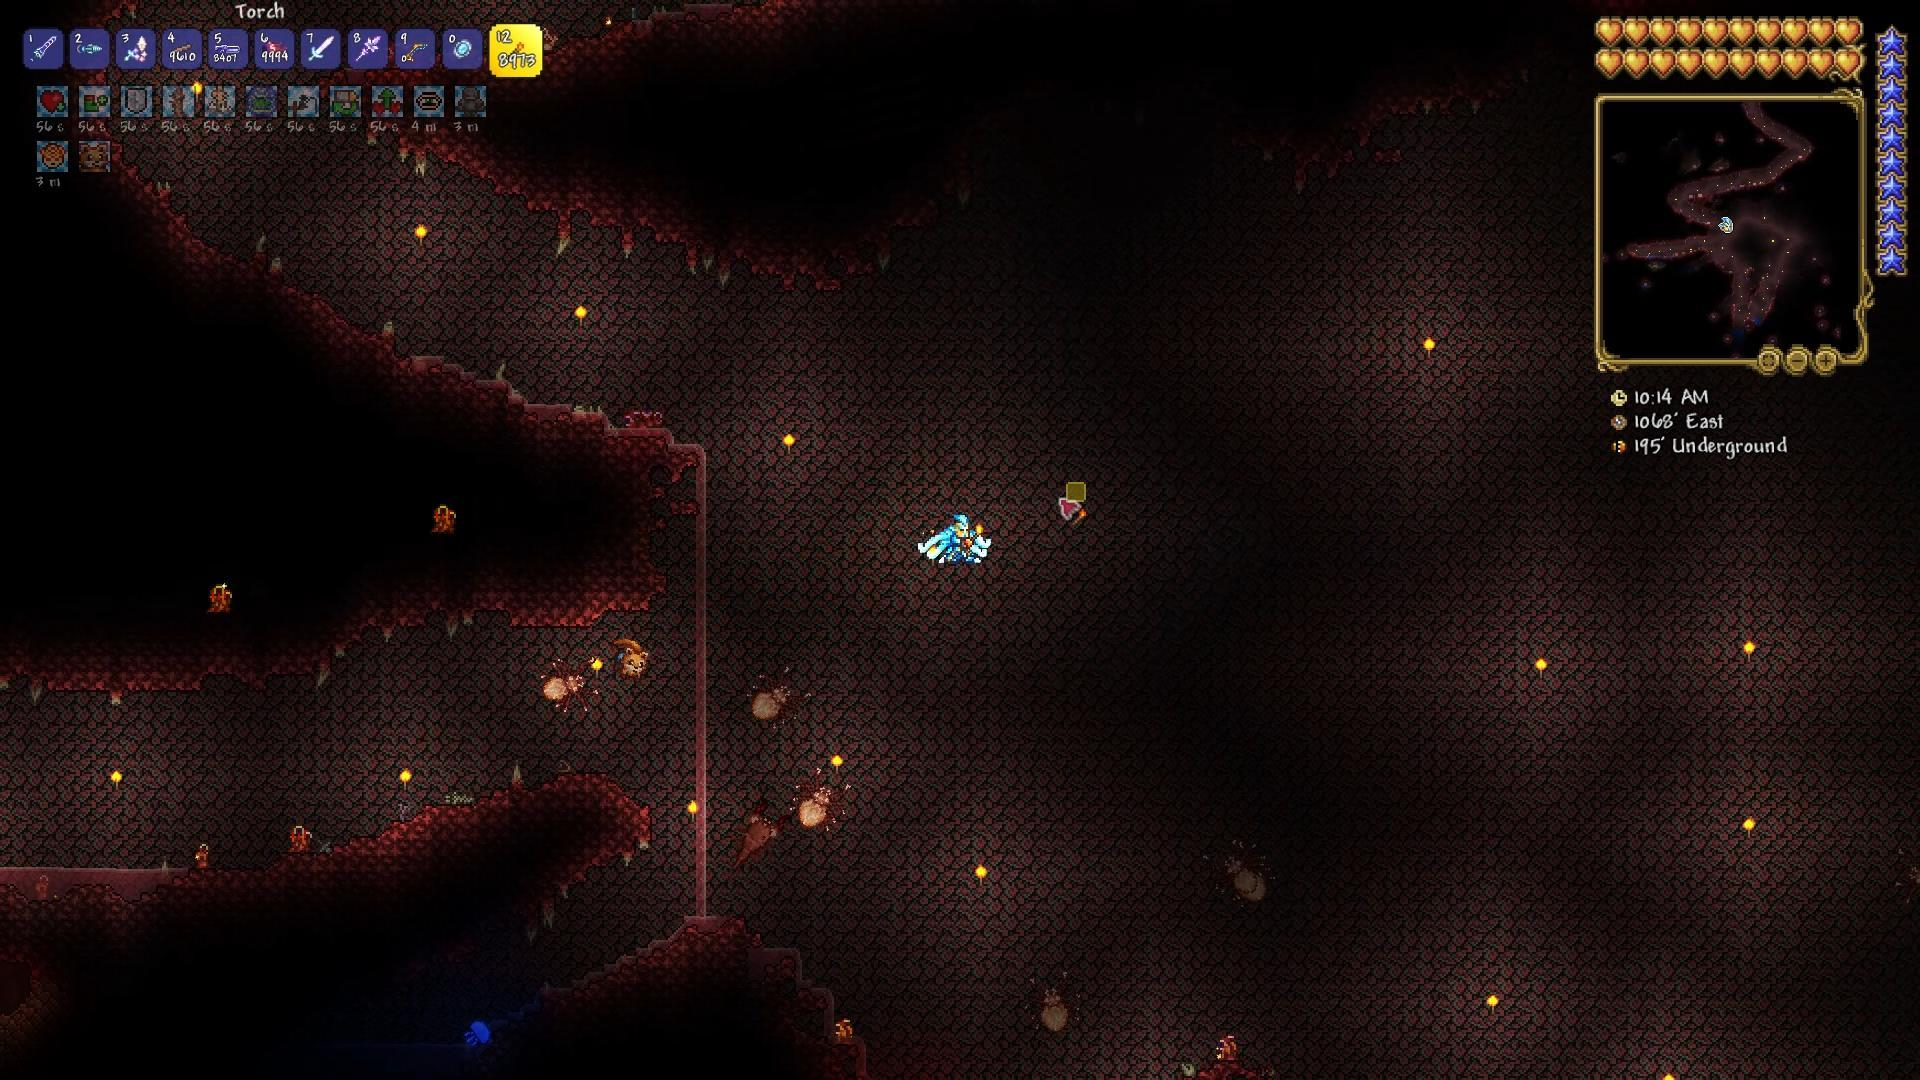spider: (1193, 840, 1278, 913), (741, 651, 812, 737), (785, 756, 851, 839), (529, 653, 603, 723), (1022, 977, 1083, 1042)
